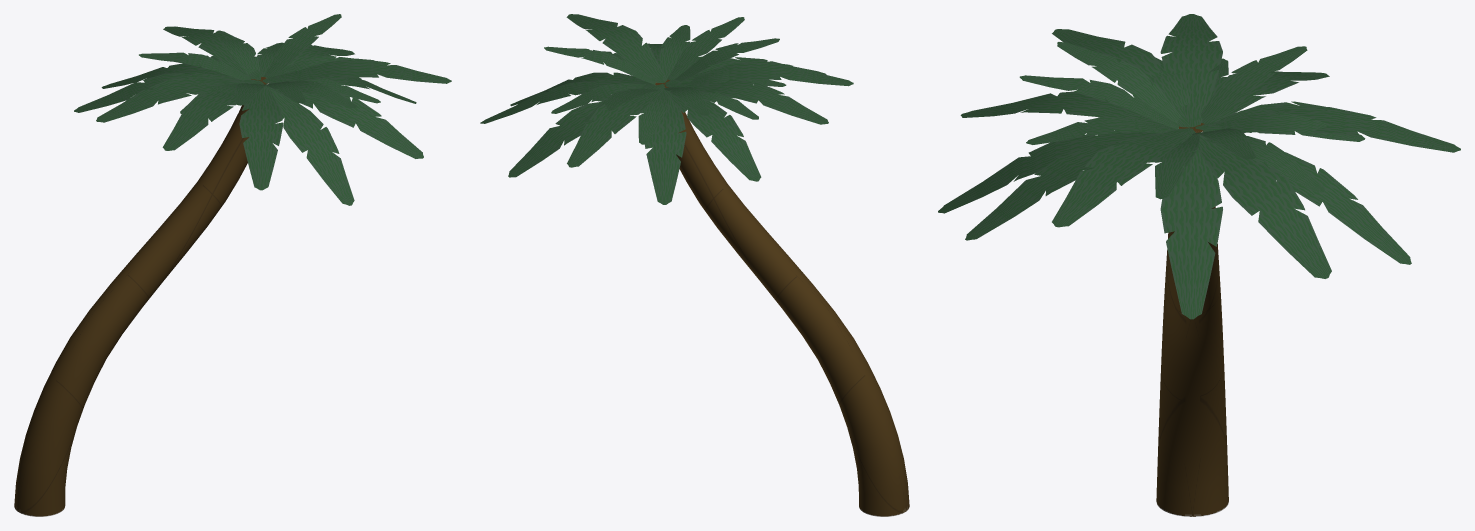
File: palmera.FBX
The picture shows the model from 3 angles, left to right: view 1: azimuth 30°, elevation 25°; view 2: azimuth 150°, elevation 25°; view 3: azimuth 270°, elevation 25°; orthographic projection. The views are drawn at different scales.
Parts seen in each view (by area): view 1: Circle001, Plane010, Plane011, Plane009, Plane008, Plane001, Plane012, Plane004, Plane020, Plane002, Plane016, Plane003 (+6 smaller); view 2: Circle001, Plane003, Plane002, Plane004, Plane008, Plane001, Plane012, Plane005, Plane006, Plane024, Plane013, Plane020 (+8 smaller); view 3: Circle001, Plane007, Plane006, Plane008, Plane001, Plane005, Plane009, Plane004, Plane010, Plane011, Plane013, Plane016 (+9 smaller).
Part boxes in pixels (<box>): Circle001: <box>14,77,268,516</box>; Plane010: <box>271,90,354,205</box>; Plane011: <box>239,85,283,190</box>; Plane009: <box>261,80,423,158</box>; Plane008: <box>262,58,451,83</box>; Plane001: <box>96,77,259,122</box>; Plane012: <box>162,81,263,150</box>; Plane004: <box>163,26,262,80</box>; Plane020: <box>263,14,341,77</box>; Plane002: <box>74,72,238,112</box>; Plane016: <box>139,52,250,80</box>; Plane003: <box>101,63,231,88</box>; Circle001: <box>655,79,909,516</box>; Plane003: <box>644,97,686,204</box>; Plane002: <box>664,90,761,181</box>; Plane004: <box>567,84,665,167</box>; Plane008: <box>566,14,666,83</box>; Plane001: <box>665,79,828,124</box>; Plane012: <box>666,61,853,86</box>; Plane005: <box>508,98,610,177</box>; Plane006: <box>480,80,653,123</box>; Plane024: <box>667,17,744,80</box>; Plane013: <box>675,38,779,81</box>; Plane020: <box>544,46,655,84</box>; Circle001: <box>1156,123,1228,516</box>; Plane007: <box>1160,150,1222,319</box>; Plane006: <box>1197,133,1331,278</box>; Plane008: <box>1052,128,1195,227</box>; Plane001: <box>1160,14,1222,127</box>; Plane005: <box>1277,152,1411,264</box>; Plane009: <box>965,133,1159,240</box>; Plane004: <box>1195,107,1460,152</box>; Plane010: <box>938,130,1158,213</box>; Plane011: <box>960,91,1168,126</box>; Plane013: <box>1057,42,1180,123</box>; Plane016: <box>1200,46,1307,123</box>.
Bounding box in the file's own units: 180 × 172 × 144.
2 materials, 2 textured.
